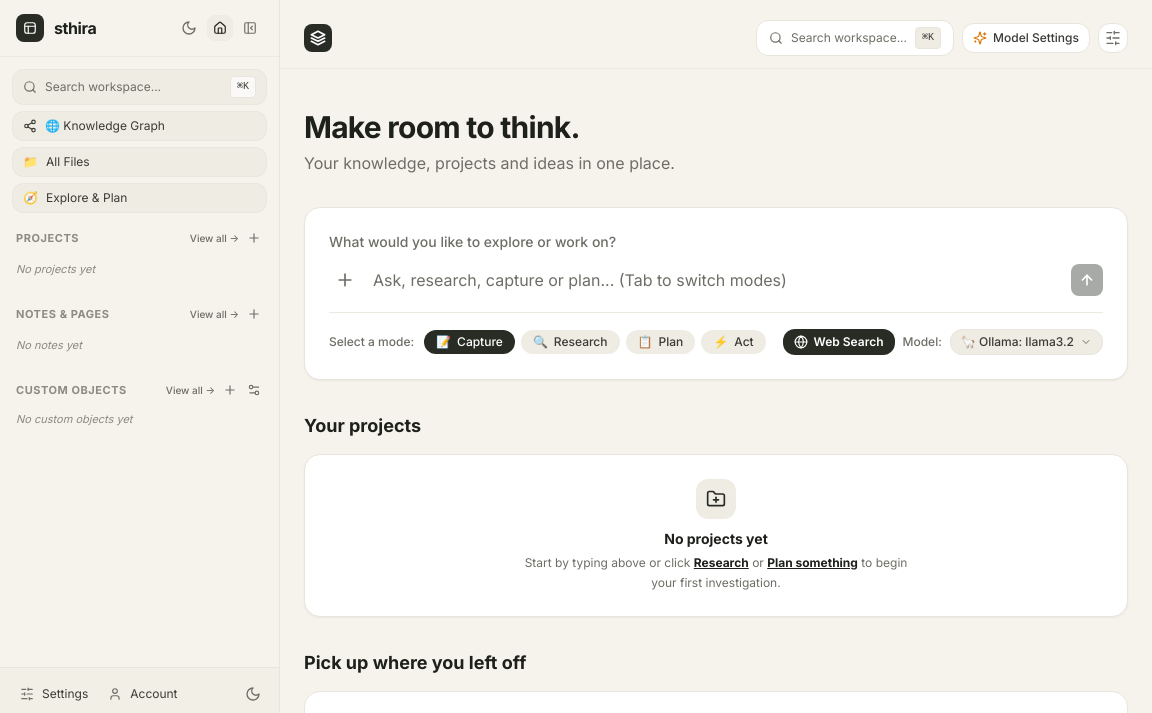
Test: Universal Input Bar Actions: Capture, Research, Plan, Act › End-to-end in App: capturing note transitions view to FocusView as a standalone note without project
This screenshot has width=1152, height=713.
Check: the heading "Make room to think." is shown, box [304,109,580,145]
Type "Quick thought on architecture" into the field with placeholder "Ask, research, capture or plan... (Tab to switch modes)" at (720, 280), box [369,264,1071,296]
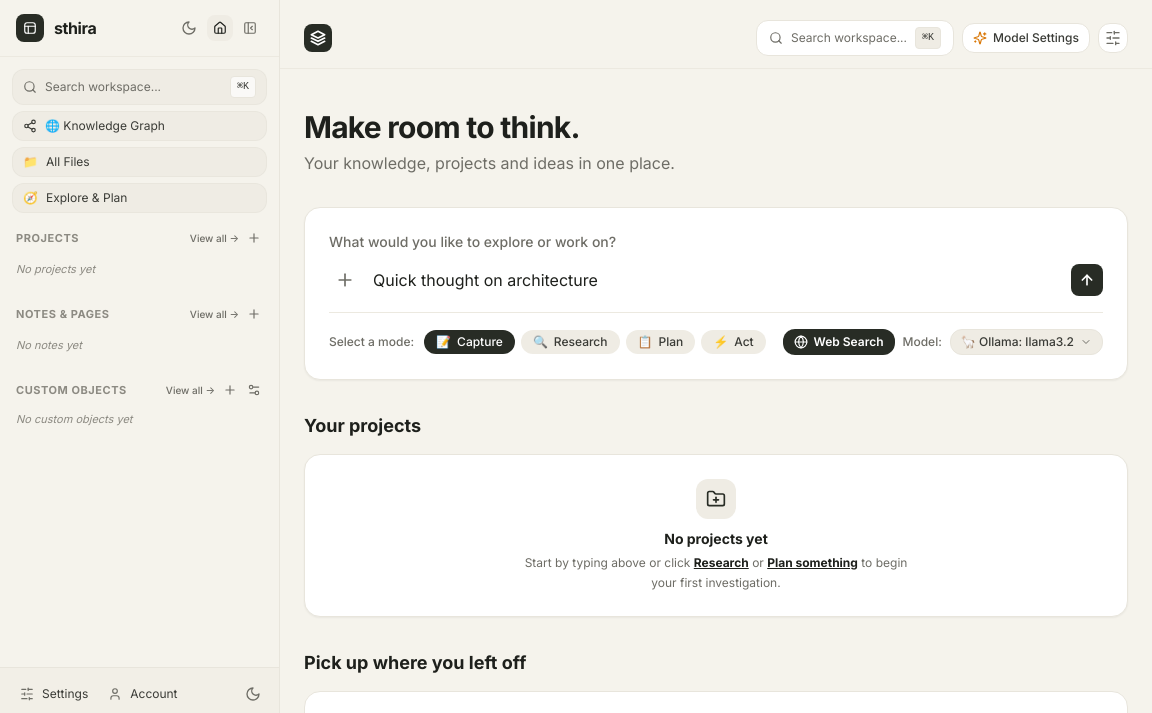
Press Enter
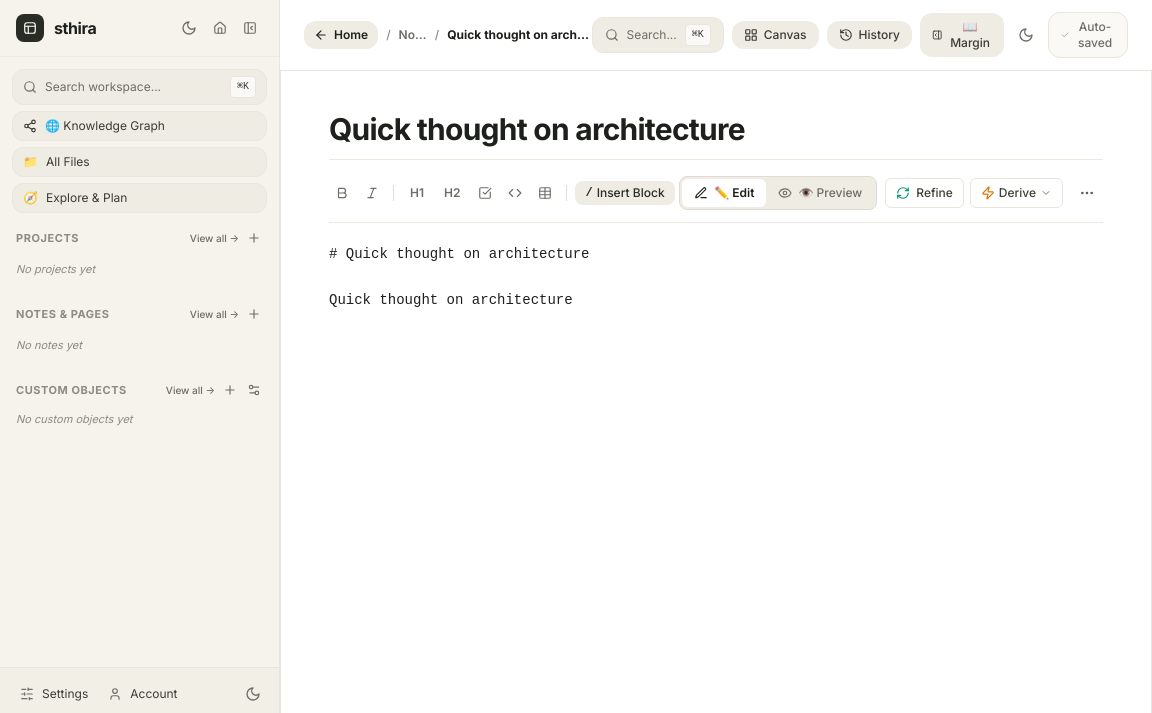
Check: the field with test id "input-artifact-title" holds "Quick thought on architecture", box [329,111,1103,147]
Check: the text "Notes" is shown, box [399,27,427,43]
